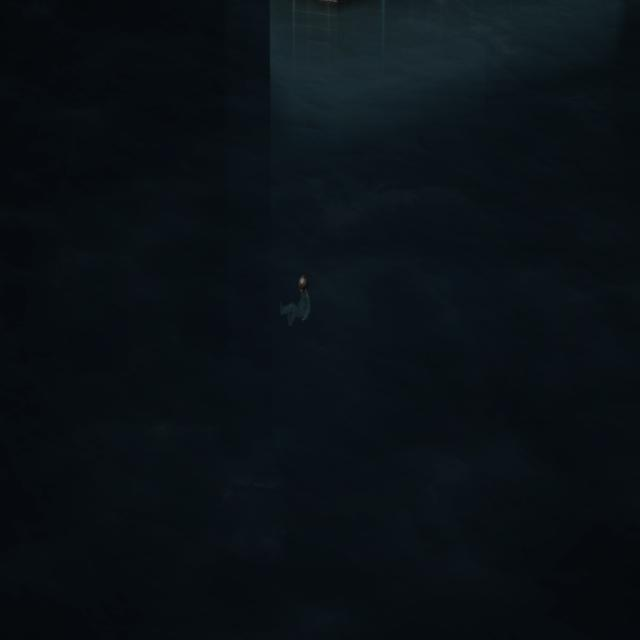Human: (274, 269, 312, 327)
